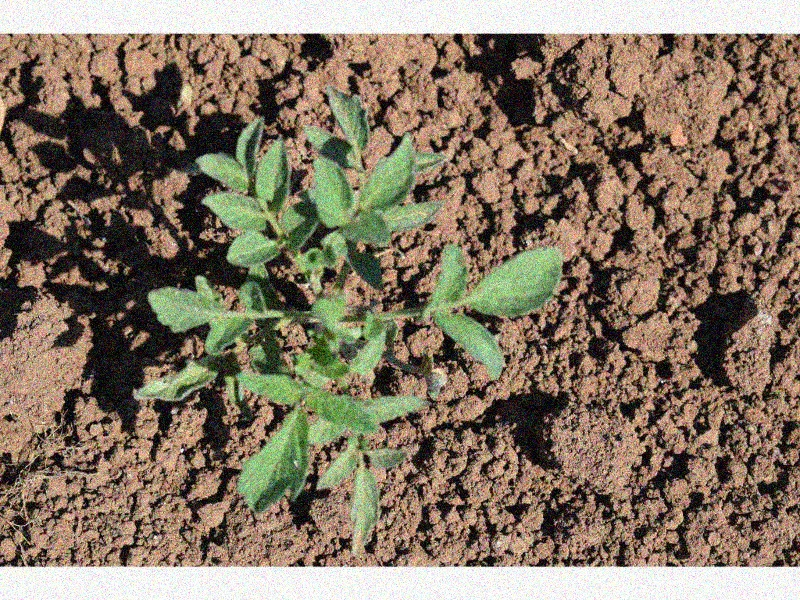tomato: (132, 83, 565, 552)
